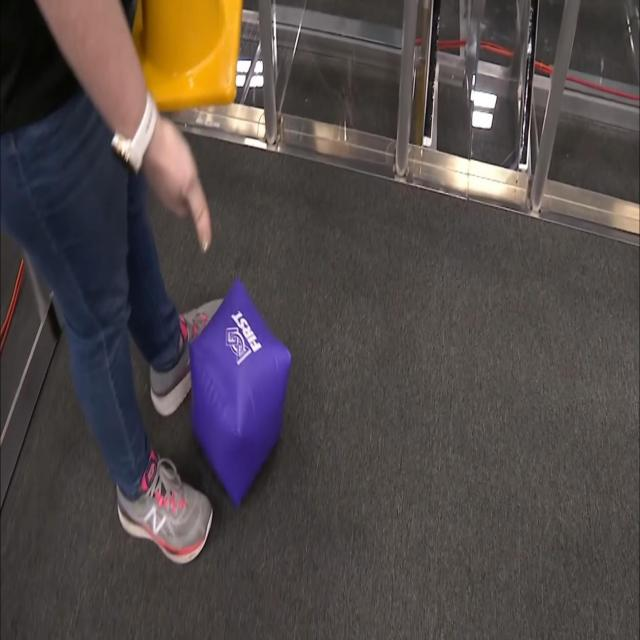frc_cone: (129, 0, 241, 103)
frc_cube: (187, 279, 297, 502)
